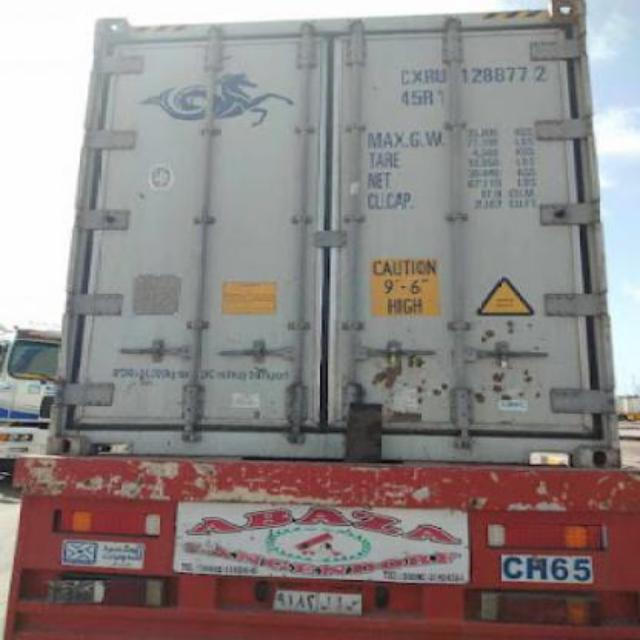1: (458, 65, 468, 85)
2: (470, 67, 482, 83), (534, 66, 546, 82)
7: (516, 64, 530, 84), (506, 64, 518, 86)
8: (496, 67, 506, 85), (484, 64, 492, 86)
C: (398, 69, 412, 87)
R: (426, 67, 436, 83)
U: (436, 67, 446, 85)
X: (412, 68, 424, 82)
